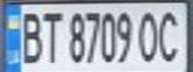0: (100, 7, 118, 63)
7: (84, 7, 103, 63)
8: (63, 7, 87, 64)
9: (115, 7, 136, 64)
B: (15, 7, 45, 64)
C: (154, 6, 187, 64)
O: (136, 7, 163, 64)
T: (39, 7, 63, 64)
